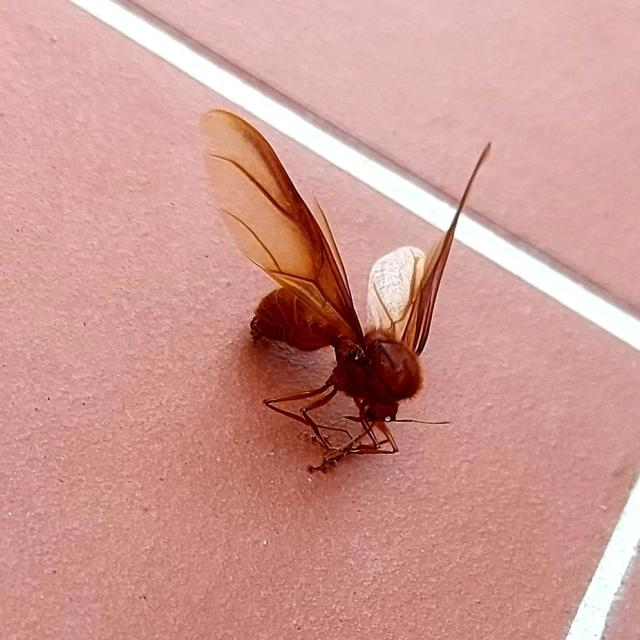Dead-Male-Alate: (198, 108, 492, 476)
